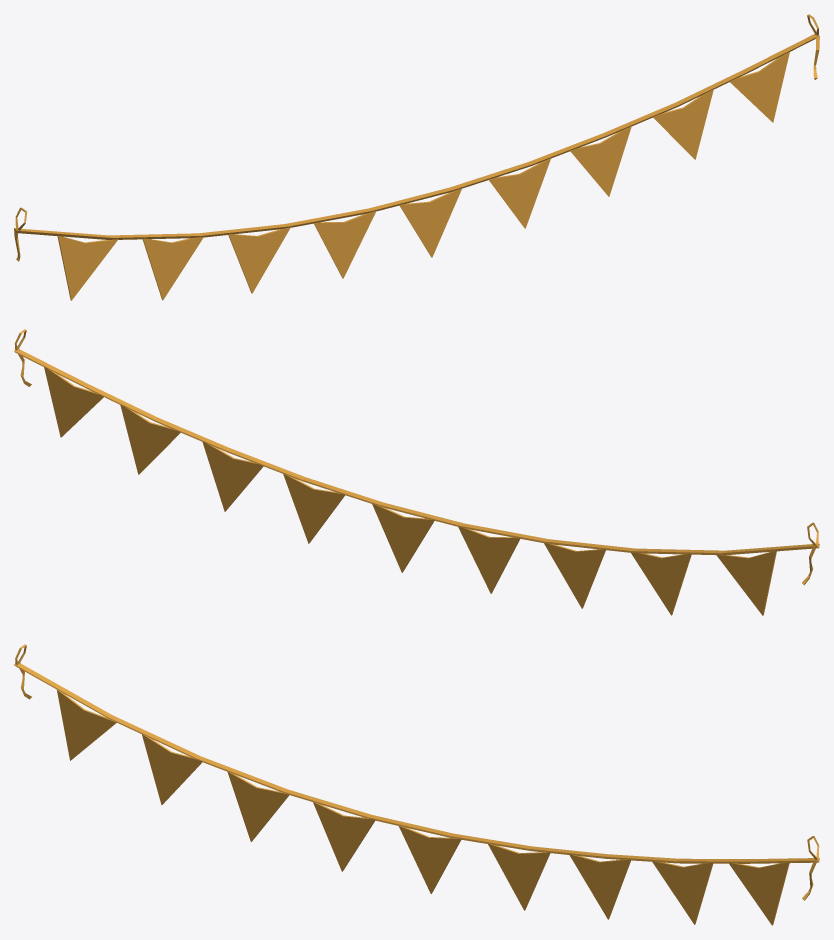
Rendered from string-of-flags-3m.fbx.
3 views of the same model, one above another, from view 1: azimuth 30°, elevation 25°; view 2: azimuth 150°, elevation 25°; view 3: azimuth 330°, elevation 25° (orthographic).
Parts seen in each view (by area): view 1: string-of-flags-3m; view 2: string-of-flags-3m; view 3: string-of-flags-3m.
Boxes of the visible parts, x1,y1,x2,y2 form: string-of-flags-3m: (14, 14, 819, 300); string-of-flags-3m: (14, 329, 819, 615); string-of-flags-3m: (14, 644, 819, 925).
Size of the model in its own units: 3 by 0.5319 by 0.0882.
